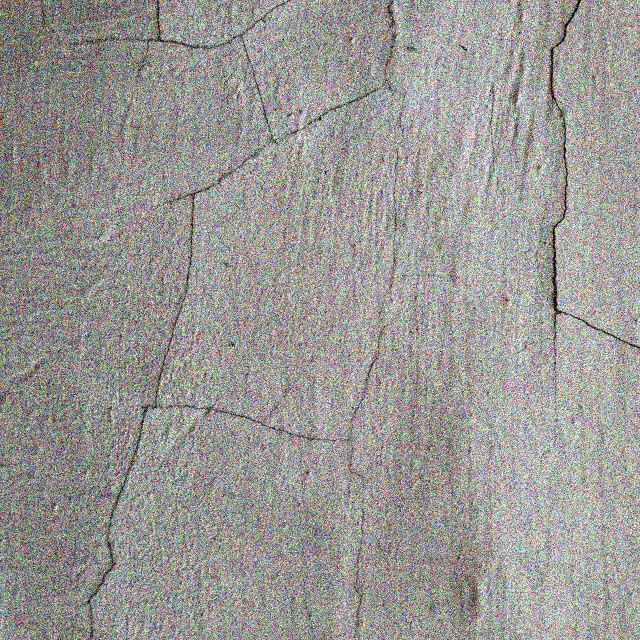SurfaceCrack: (51, 4, 392, 640), (517, 0, 636, 423)
